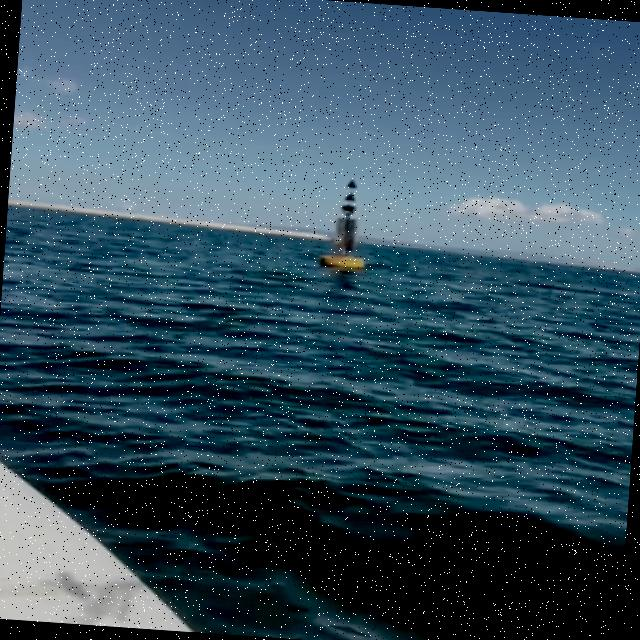marque: (323, 177, 375, 274)
